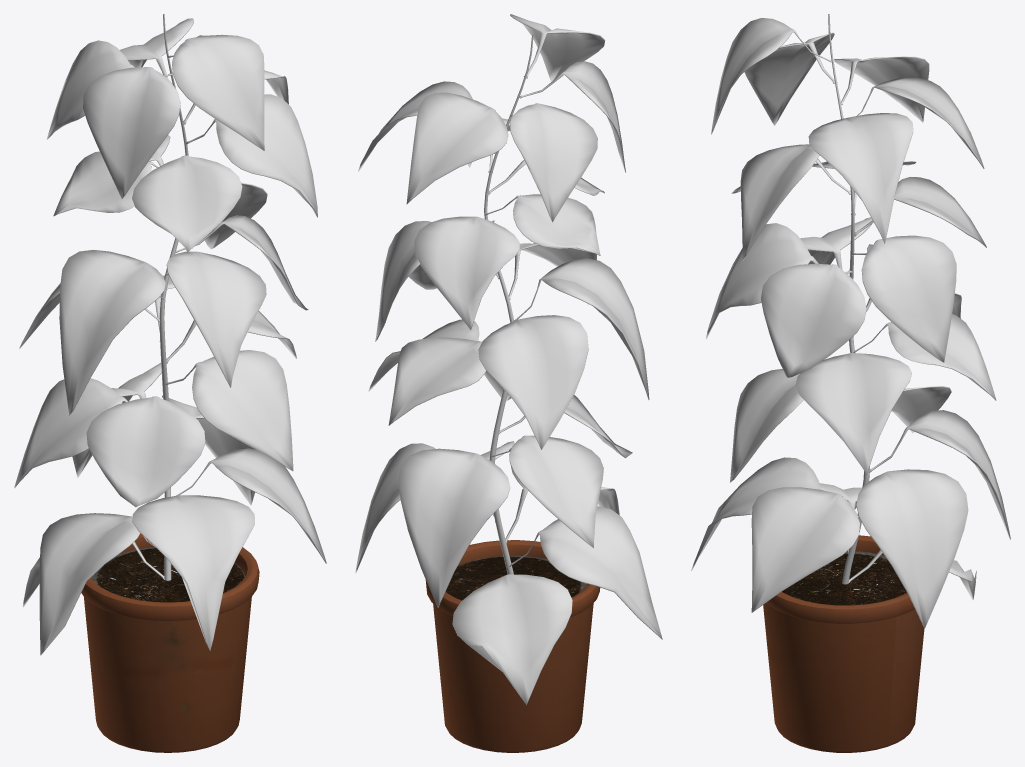
Rendered from Plants_Pots_5.fbx.
3 views of the same model, side by side, from view 1: azimuth 30°, elevation 25°; view 2: azimuth 150°, elevation 25°; view 3: azimuth 270°, elevation 25° (orthographic). The views are drawn at different scales.
Visible parts, largest first — view 1: Cylinder.010; view 2: Cylinder.010; view 3: Cylinder.010.
Boxes of the visible parts, box(x1,y1,x2,y2) form: Cylinder.010: box(14, 14, 326, 752); Cylinder.010: box(355, 14, 662, 752); Cylinder.010: box(691, 14, 1010, 752).
Bounding box in the file's own units: 83.87 × 203 × 83.59.
